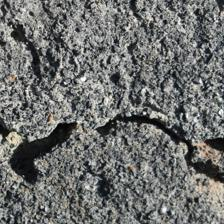Crack: (0, 59, 89, 161), (37, 75, 113, 171)
